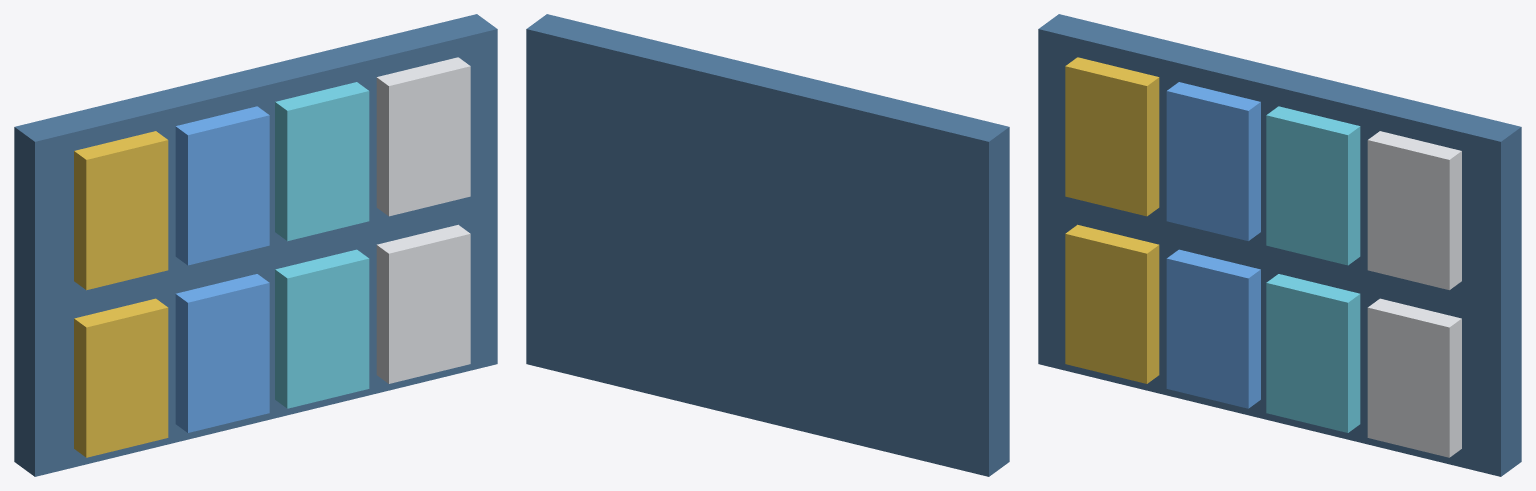
The model's file is aac.glb.
3 views of the same model, side by side, from view 1: azimuth 30°, elevation 25°; view 2: azimuth 150°, elevation 25°; view 3: azimuth 330°, elevation 25° (orthographic).
Visible parts, largest first — view 1: world; view 2: world; view 3: world.
Boxes of the visible parts, bbox=[...] form: world: bbox=[14, 14, 497, 476]; world: bbox=[526, 14, 1009, 476]; world: bbox=[1038, 14, 1521, 476].
Bounding box in the file's own units: 2.6 × 1.8 × 0.32.
